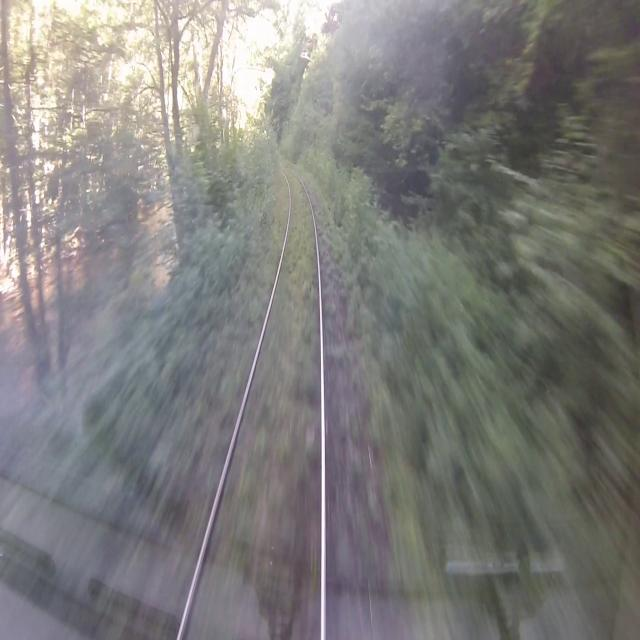Plant: (137, 146, 376, 639), (137, 146, 290, 639), (177, 162, 326, 639), (286, 146, 375, 639)
